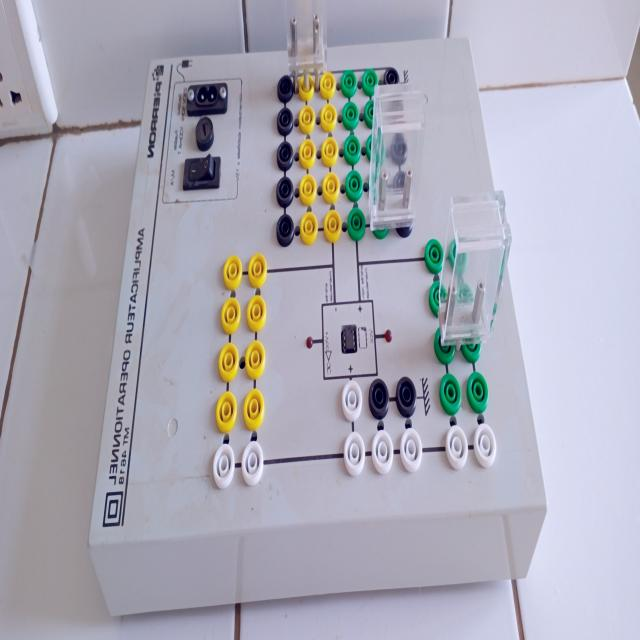Operational Amplifier Board: (90, 12, 556, 608)
